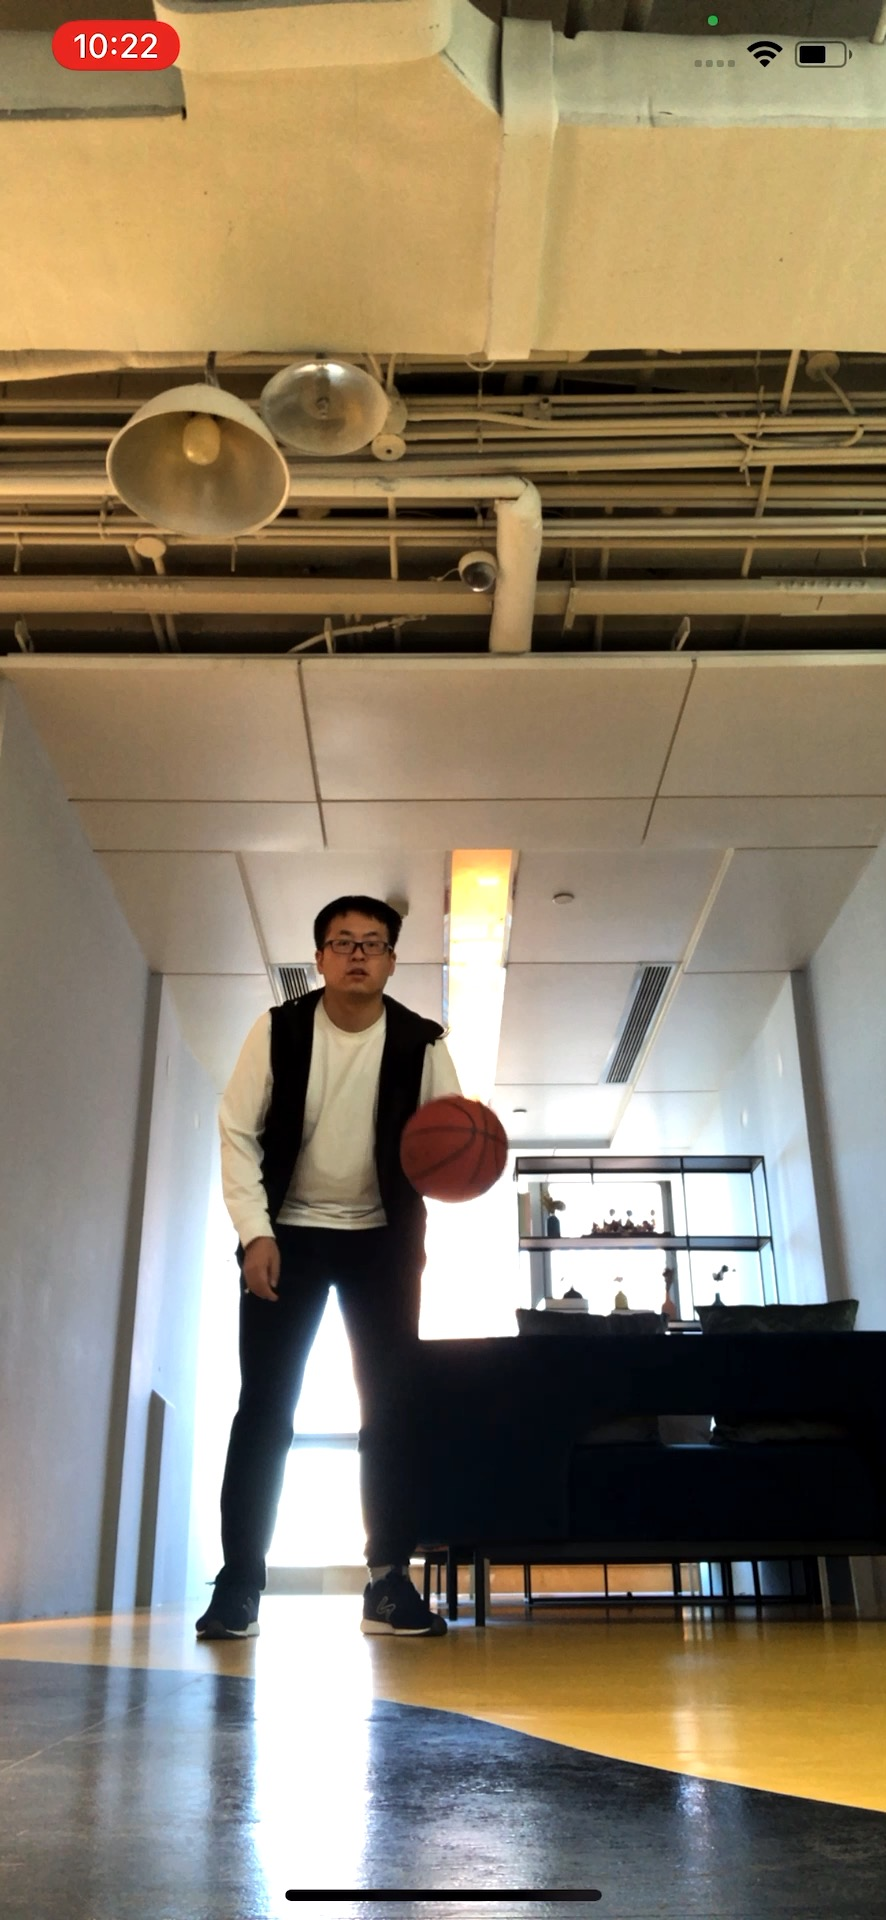ball: (398, 1096, 510, 1202)
